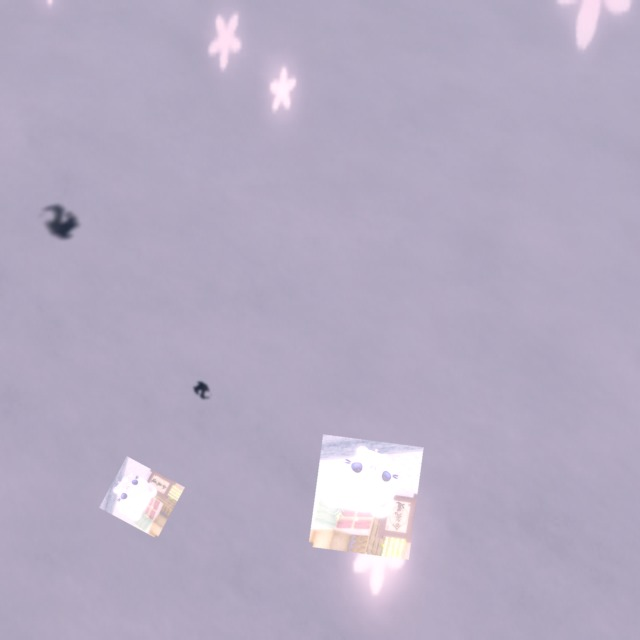urso_branco: (308, 434, 424, 560), (99, 456, 185, 539)
urso_preto: (30, 191, 89, 253), (188, 375, 217, 406)
